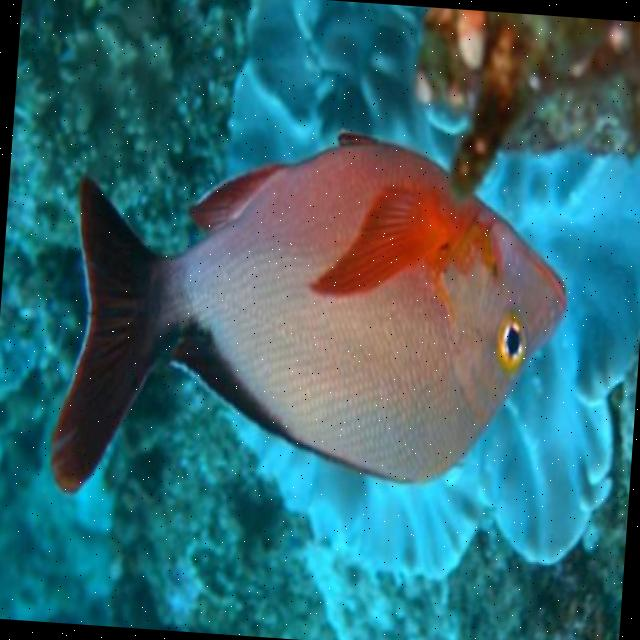ikan: (46, 110, 579, 531)
